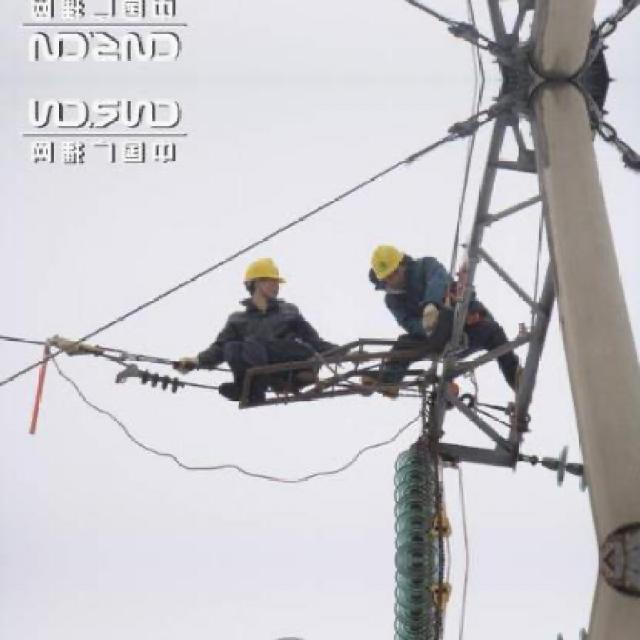helmet: (242, 255, 288, 308), (366, 238, 408, 291)
